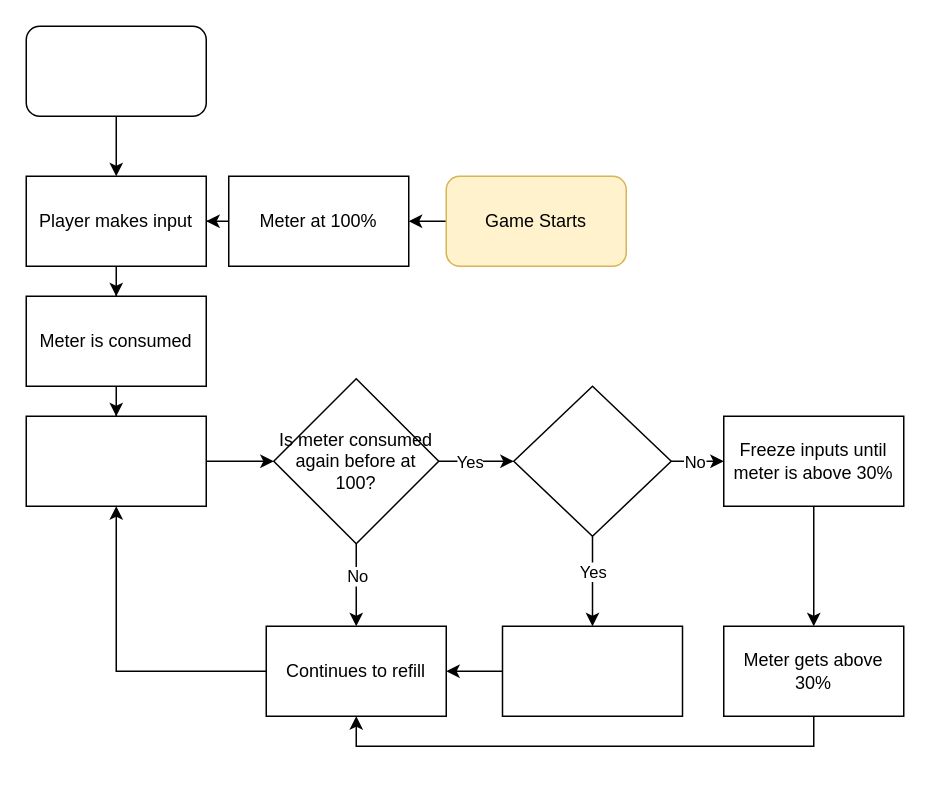
Some shapes in this 930 by 785 pixel diagram are drawn without their labels. Each missing label, with the centre of its shape:
Is there sufficient meter to be used?: pixel 591 460
Meter is consumed, continues refilling: pixel 591 670
Meter starts to refill up to 100: pixel 115 460
Player Controller: pixel 115 70
